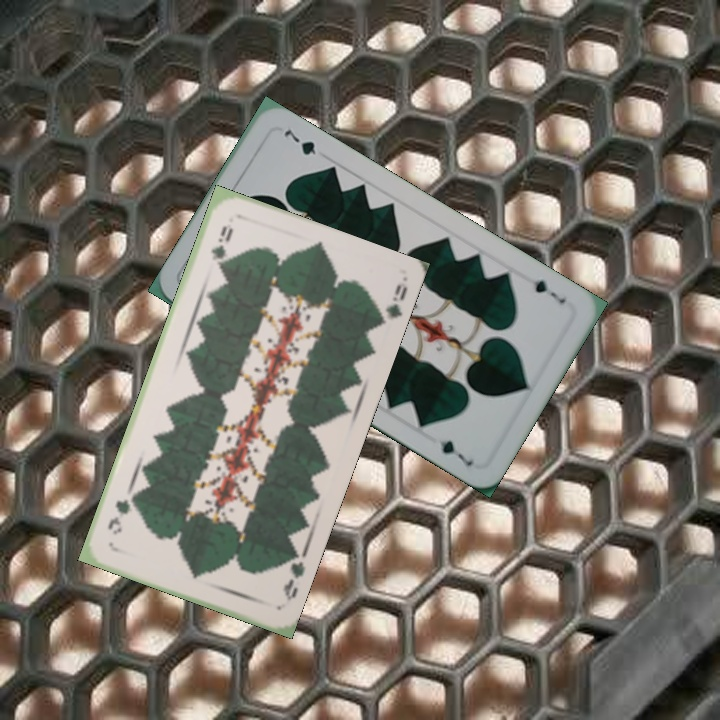G7: (530, 275, 568, 307)
G9: (279, 549, 308, 604), (207, 221, 236, 271)
